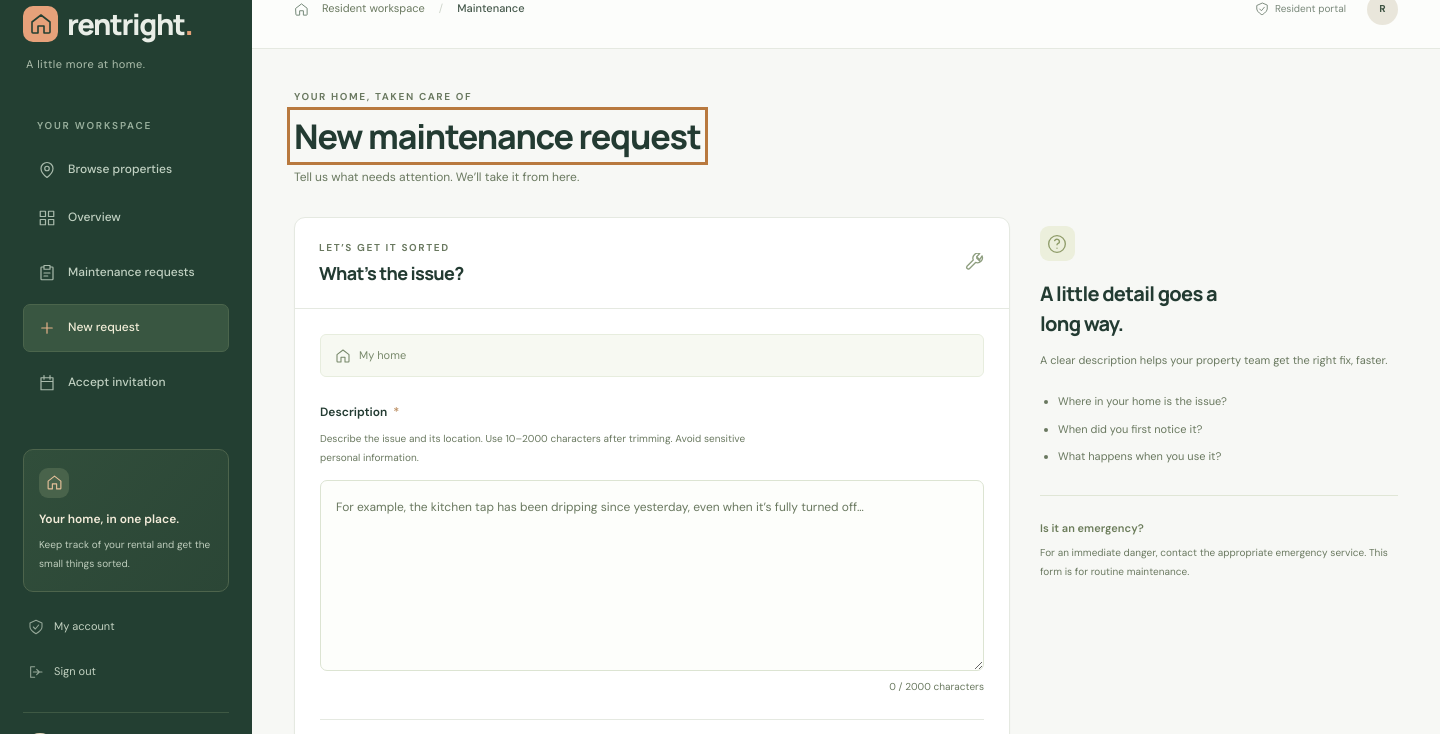
retains form text on conflict and permits an explicit retry
The width and height of the screenshot is (1440, 734).
Replace the text in the text box labelled "Description" with "Kitchen tap leaking" at (652, 575), box top-left (320, 480), bottom-right (984, 671)
(page scrolled)
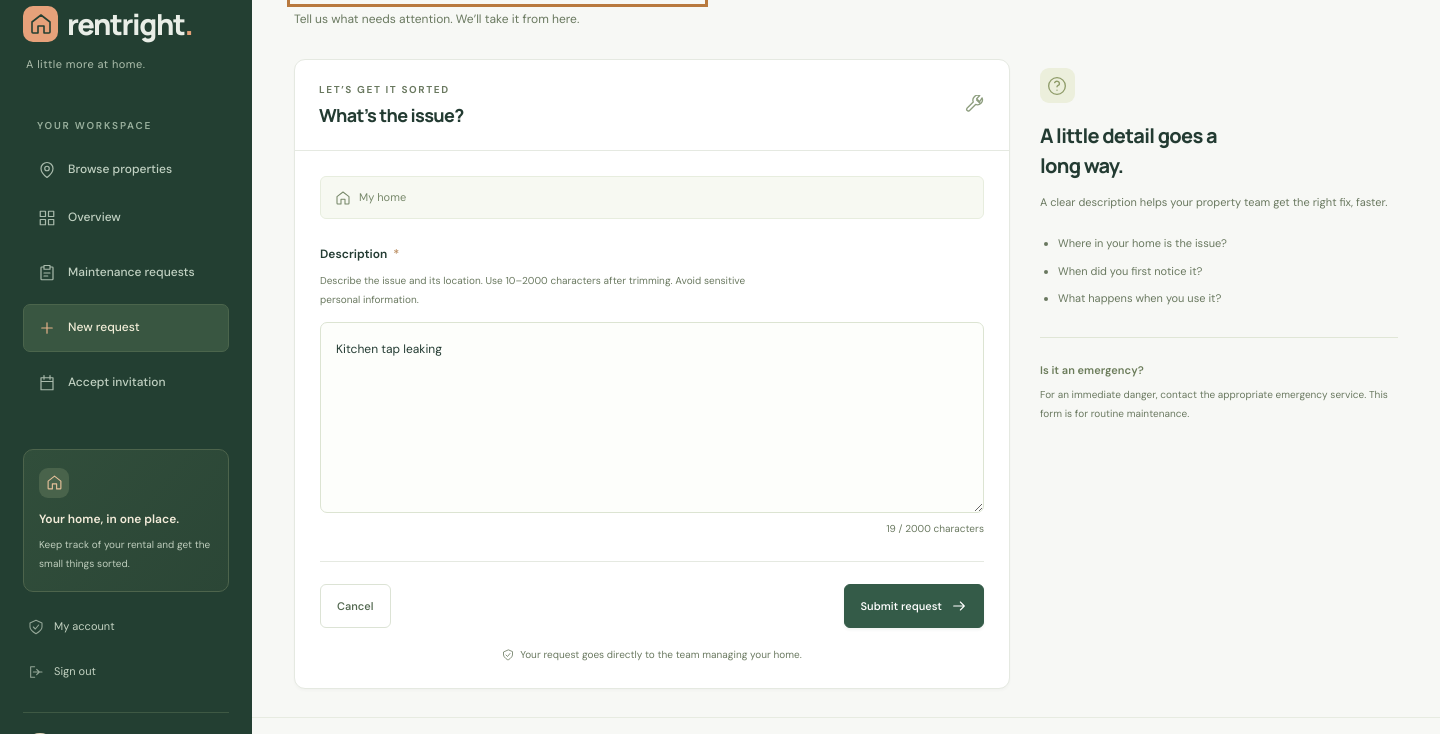
Submit the form "Description", box top-left (320, 245), bottom-right (984, 663)
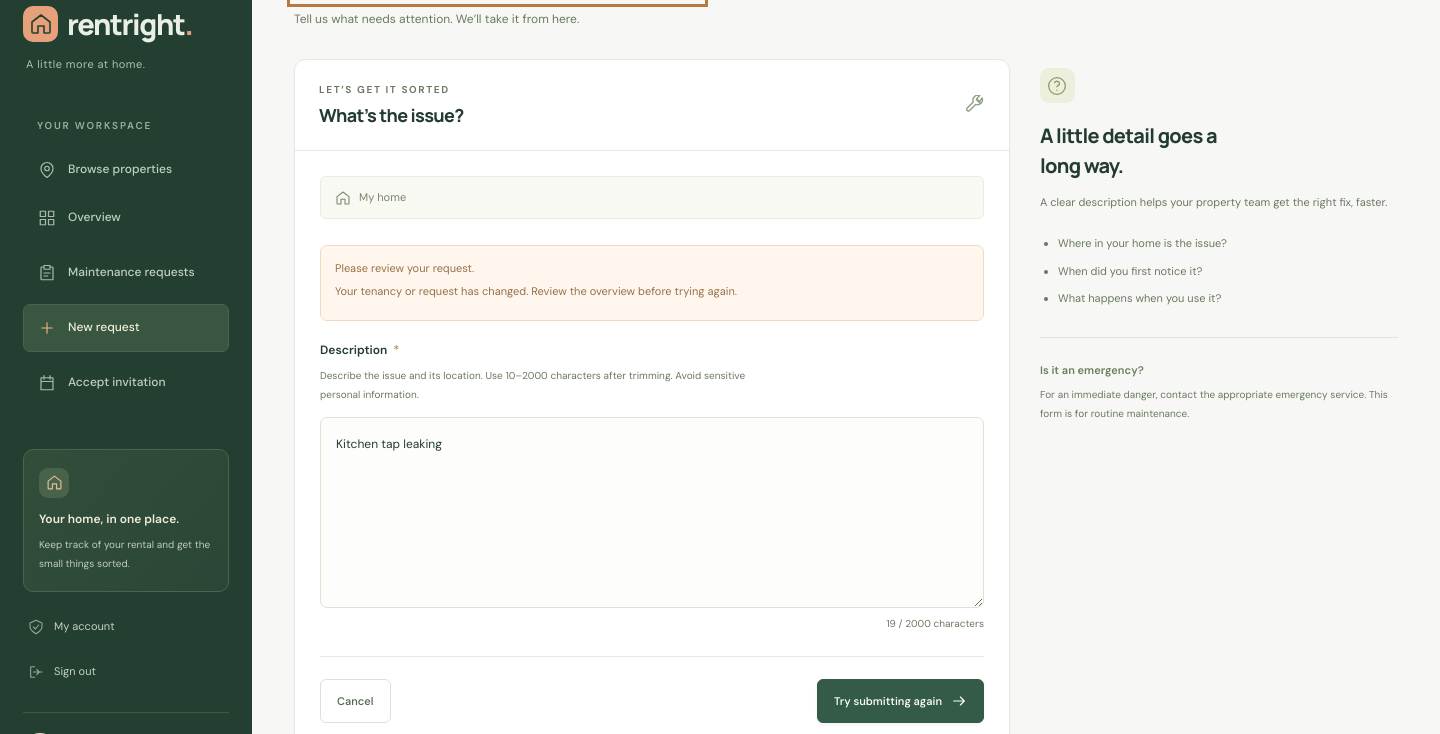
Click the button "Try submitting again" at (900, 701), box top-left (817, 679), bottom-right (984, 723)
(page scrolled)
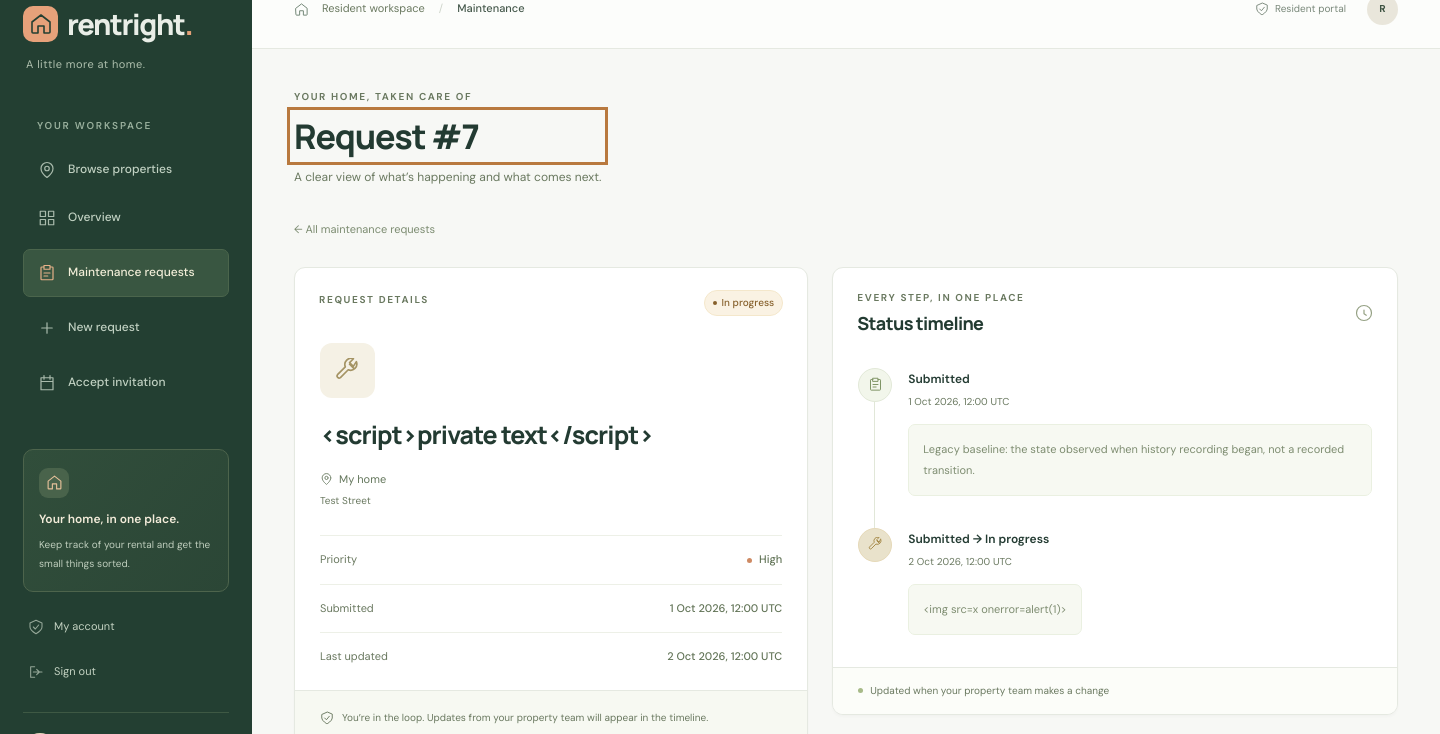
Expected: the heading "Status timeline" is shown, top-left (857, 311), bottom-right (983, 335)
